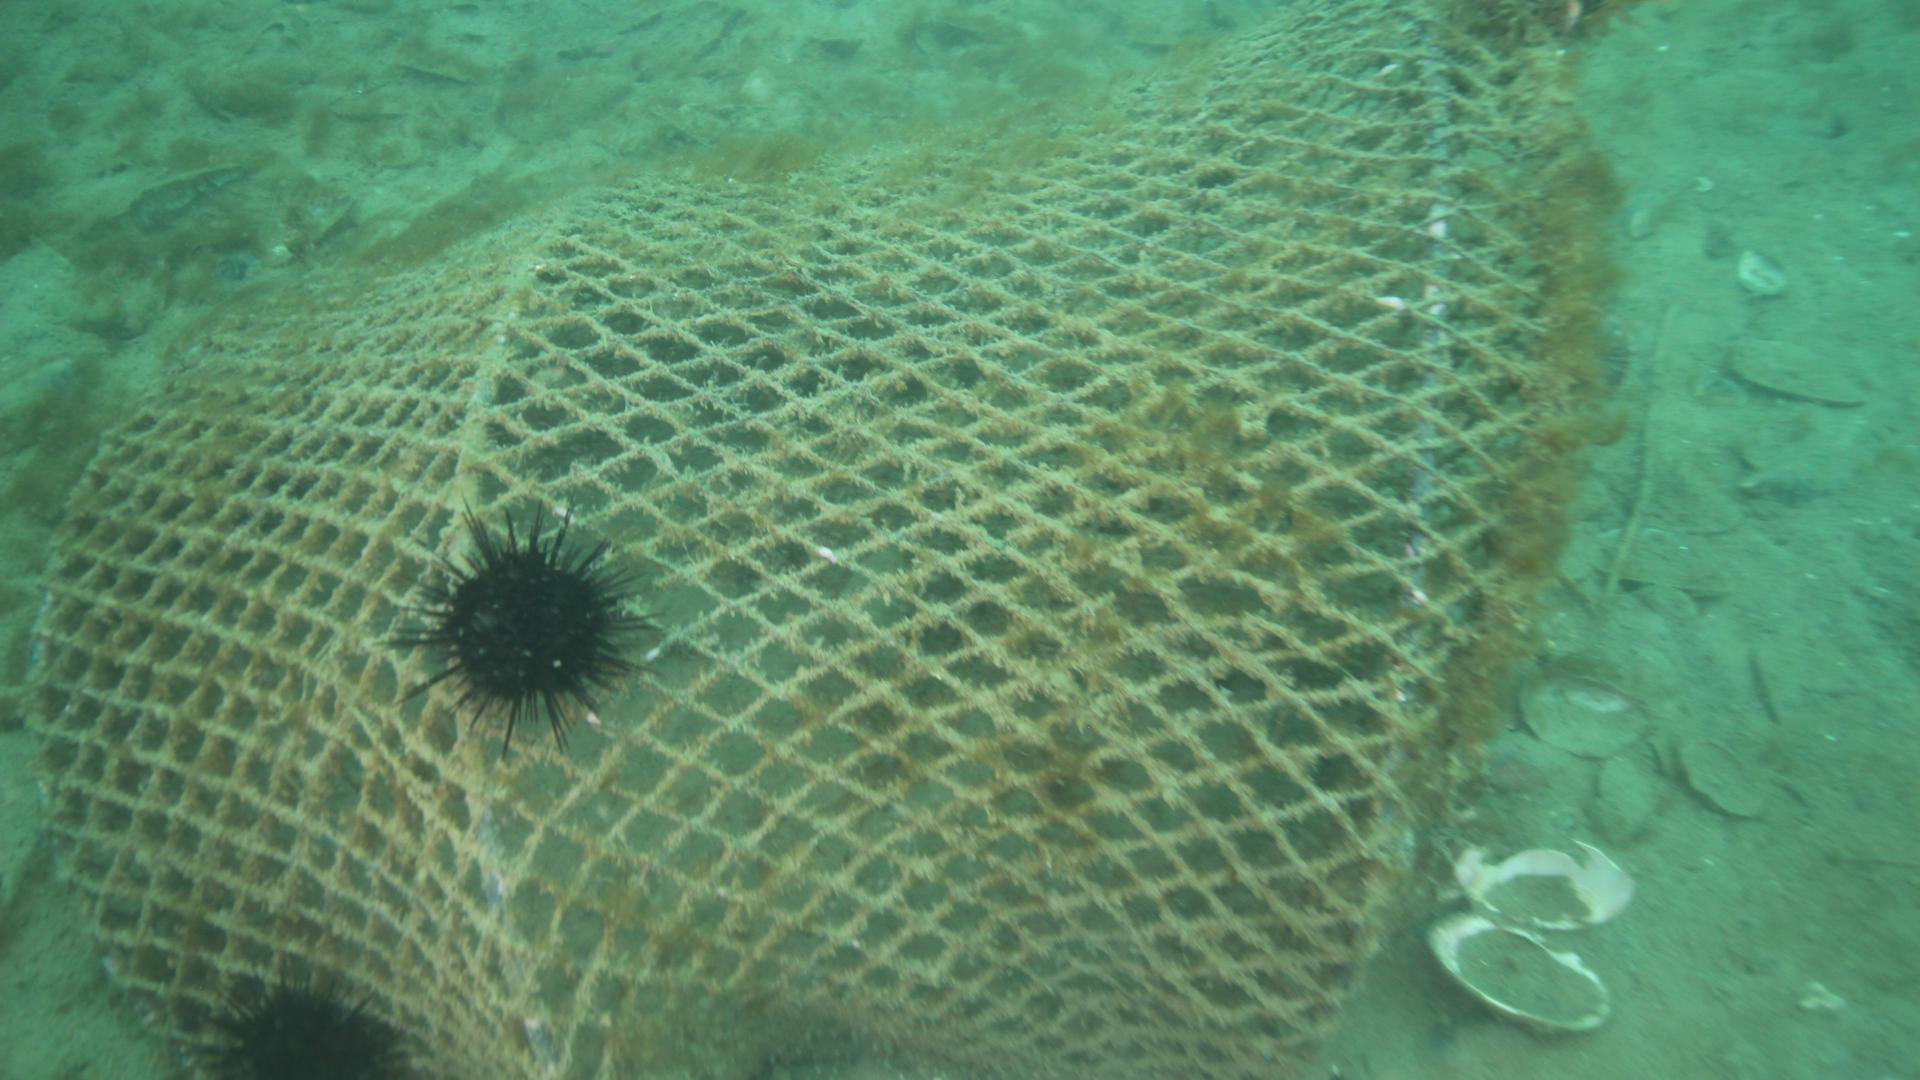spring fish trap: (30, 0, 1578, 1080)
